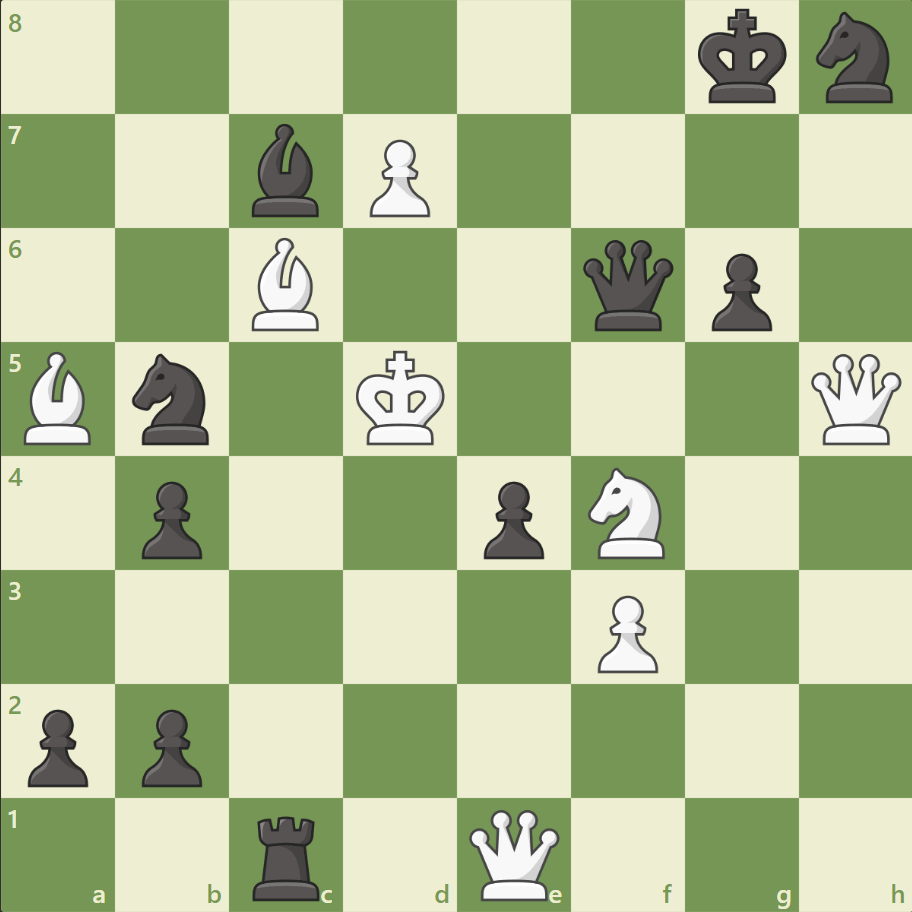B: (244, 233, 328, 336), (17, 347, 101, 449)
K: (351, 344, 451, 452)
N: (579, 461, 676, 564)
P: (361, 132, 435, 223), (588, 586, 662, 677)
Q: (805, 349, 904, 449), (464, 804, 563, 903)
b: (244, 120, 328, 222)
k: (692, 4, 792, 112)
n: (124, 348, 222, 450), (806, 7, 903, 110)
p: (701, 246, 776, 337), (133, 473, 208, 564), (474, 473, 549, 564), (20, 700, 95, 791), (133, 700, 208, 791)
q: (578, 236, 677, 335)
r: (246, 806, 329, 904)
